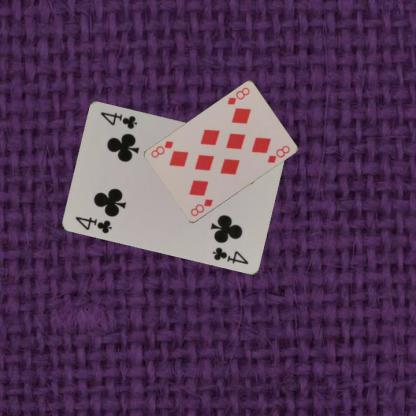4c: (73, 213, 114, 235)
8d: (188, 196, 214, 218), (225, 85, 251, 106)
